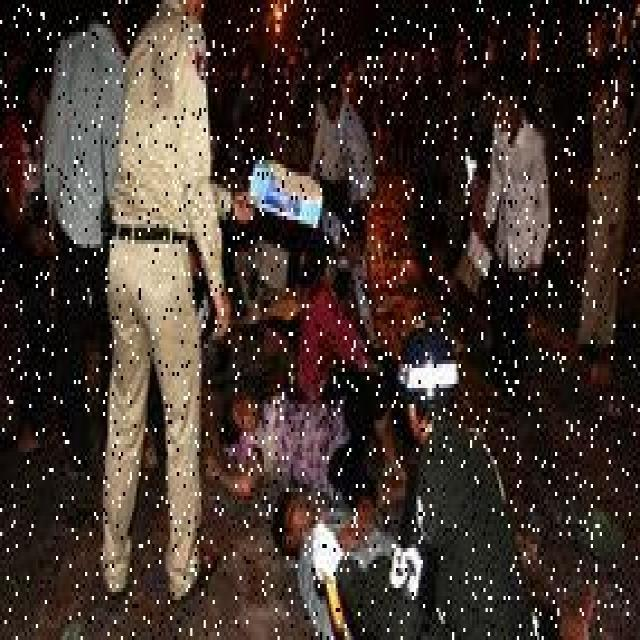fall: (219, 364, 394, 500)
